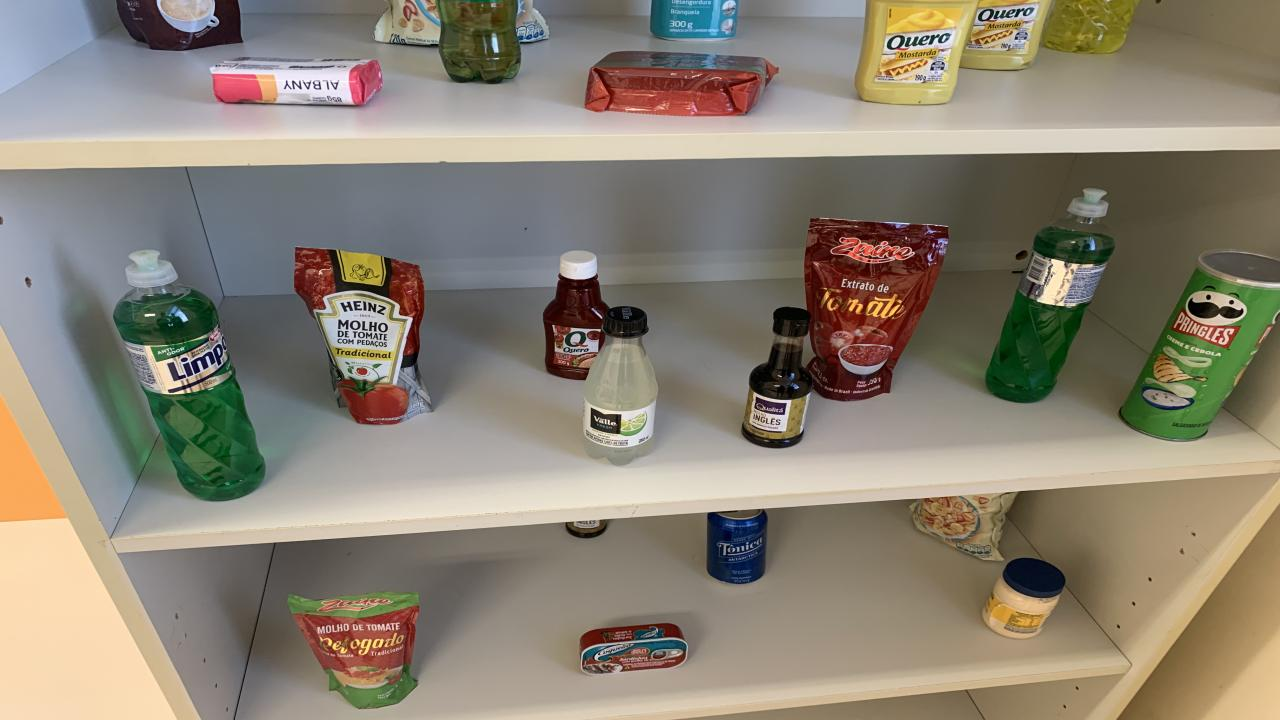Cleaner-Cleanup_Items: (650, 0, 738, 41)
Coffee-Pantry_Items: (118, 0, 242, 51)
Detergent-Cleanup_Items: (112, 281, 265, 501), (985, 189, 1115, 403), (1042, 0, 1140, 54), (128, 251, 172, 285)
English_Sauce-Pantry_Items: (742, 308, 812, 448), (565, 519, 608, 538)
Flakes-Snacks: (910, 491, 1018, 561), (375, 0, 440, 45), (515, 0, 550, 43)
Guarana-Drinks: (438, 0, 520, 84)
Guava-Snacks: (585, 51, 778, 116)
Ketchup-Pantry_Items: (542, 249, 608, 379)
Mayonnaise-Pantry_Items: (982, 557, 1065, 638)
Mustard-Pantry_Items: (855, 0, 978, 105), (960, 0, 1050, 69)
Pringles-Snacks: (1120, 249, 1280, 441)
Soap-Cleanup_Items: (210, 56, 382, 105)
Soda-Drinks: (582, 308, 658, 465)
Tomato_Sauce-Pantry_Items: (805, 218, 948, 401), (295, 248, 432, 426), (288, 591, 420, 709)
Tonic-Drinks: (708, 510, 768, 583)
Tuna_Can-Pantry_Items: (580, 622, 688, 675)
